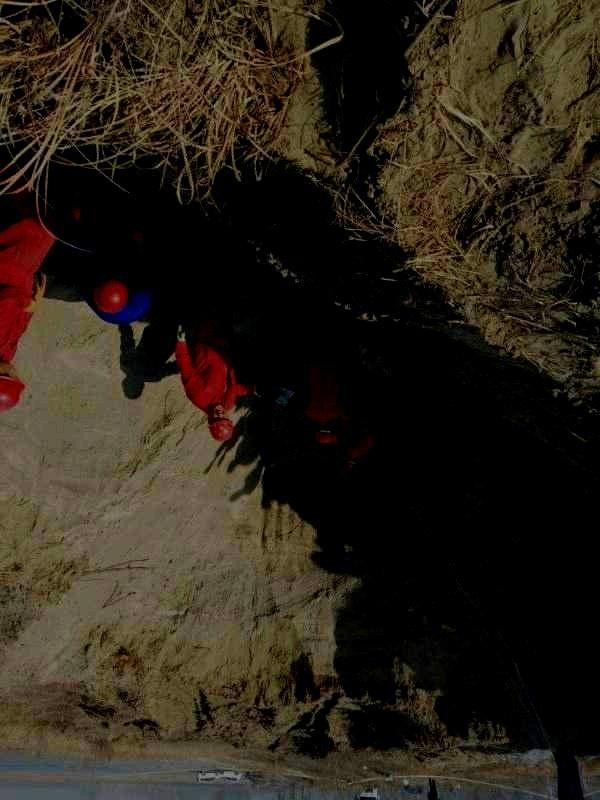helmet: (1, 360, 27, 414), (93, 279, 128, 315), (205, 405, 234, 442)
